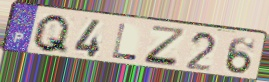2: (183, 31, 220, 72)
4: (73, 18, 104, 59)
6: (224, 36, 257, 75)
L: (110, 22, 139, 62)
Q: (31, 13, 73, 56)
Z: (142, 24, 188, 69)
